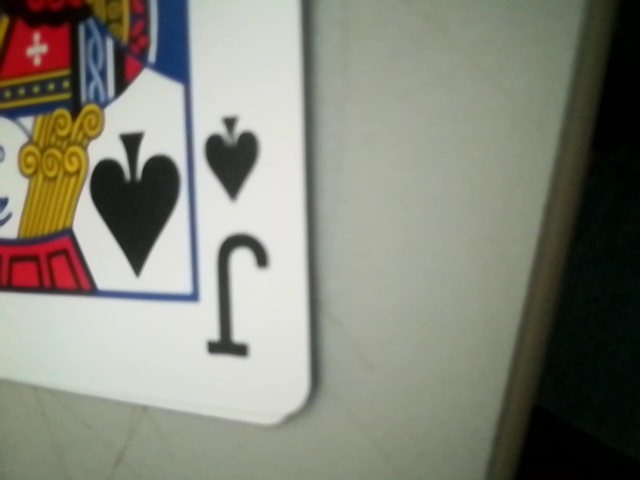ht j: (194, 99, 274, 361)
